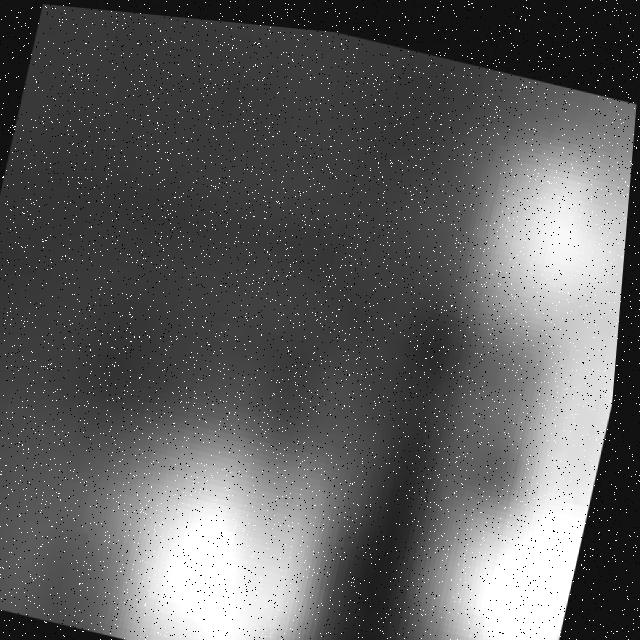person: (376, 55, 640, 640), (90, 322, 374, 640)
